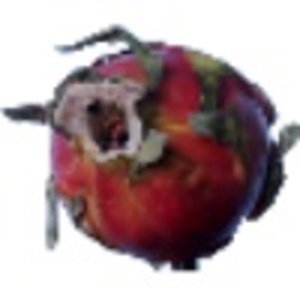pitaia: (1, 24, 300, 273)
